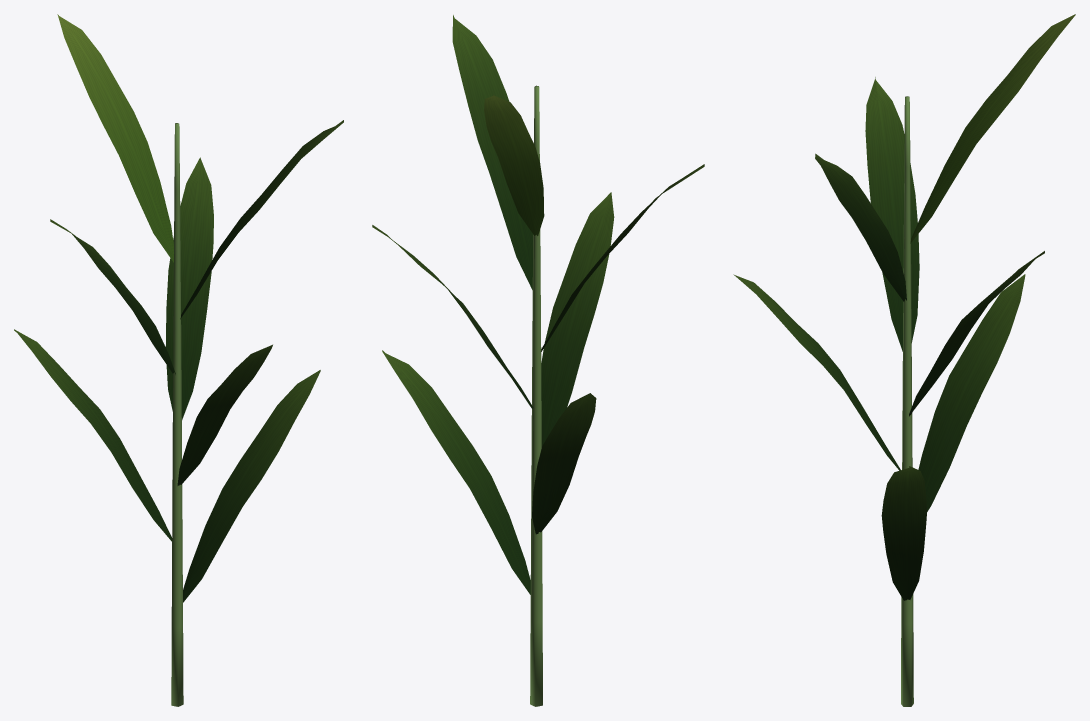
File: iris-06-lod.glb
3 views of the same model, side by side, from view 1: azimuth 30°, elevation 25°; view 2: azimuth 150°, elevation 25°; view 3: azimuth 270°, elevation 25° (orthographic). The views are drawn at different scales.
Parts seen in each view (by area): view 1: iris_stage_06_leaf_veins.011, iris_stage_06_young_leaf.011, iris_stage_06_stem_fibres.011; view 2: iris_stage_06_leaf_veins.011, iris_stage_06_stem_fibres.011, iris_stage_06_young_leaf.011; view 3: iris_stage_06_leaf_veins.011, iris_stage_06_stem_fibres.011, iris_stage_06_young_leaf.011.
Part boxes in pixels (bbox=[...]): iris_stage_06_leaf_veins.011: bbox=[14, 120, 343, 602]; iris_stage_06_young_leaf.011: bbox=[57, 14, 173, 262]; iris_stage_06_stem_fibres.011: bbox=[171, 123, 183, 706]; iris_stage_06_leaf_veins.011: bbox=[372, 15, 704, 594]; iris_stage_06_stem_fibres.011: bbox=[530, 85, 542, 706]; iris_stage_06_young_leaf.011: bbox=[484, 95, 544, 235]; iris_stage_06_leaf_veins.011: bbox=[733, 77, 1044, 600]; iris_stage_06_stem_fibres.011: bbox=[901, 96, 913, 706]; iris_stage_06_young_leaf.011: bbox=[910, 14, 1075, 243].
Bounding box in the file's own units: 0.2023 × 0.4321 × 0.1998.
Materials: 3 (2 with a texture image).
